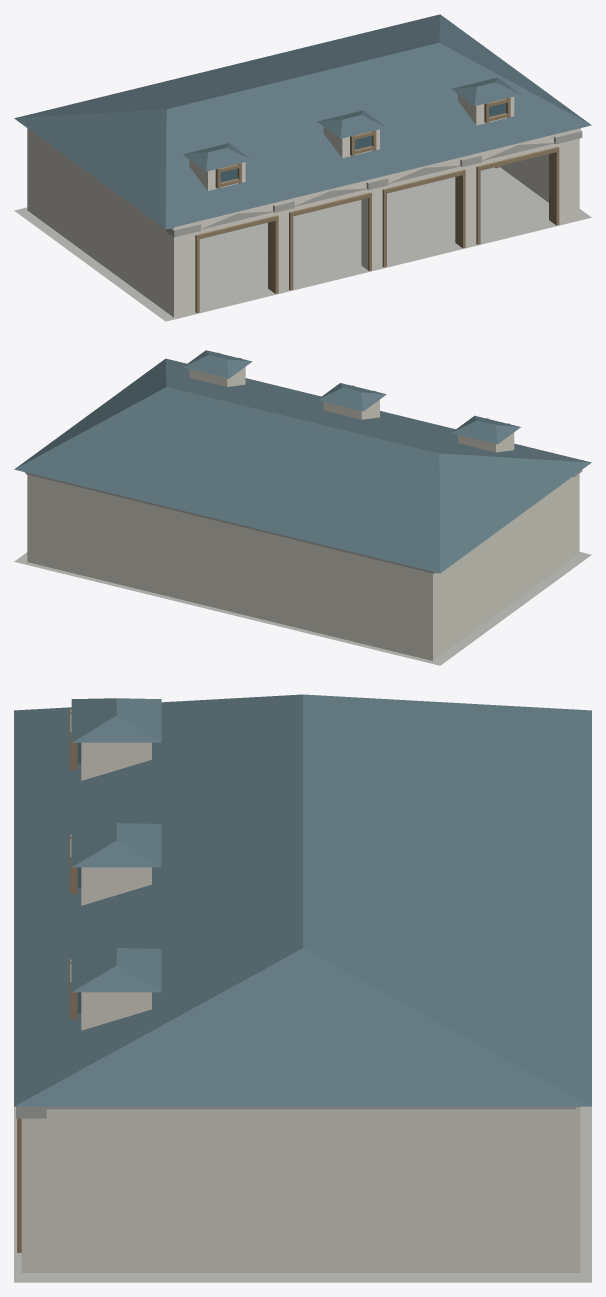
File: cart_garage_02.glb
3 views of the same model, one above another, from view 1: azimuth 30°, elevation 25°; view 2: azimuth 150°, elevation 25°; view 3: azimuth 270°, elevation 25° (orthographic). The views are drawn at different scales.
Parts seen in each view (by area): view 1: Cart_garage_02; view 2: Cart_garage_02; view 3: Cart_garage_02.
Part boxes in pixels (box(x1,y1,x2,y2)): Cart_garage_02: box(14, 14, 591, 321); Cart_garage_02: box(14, 350, 591, 665); Cart_garage_02: box(14, 694, 591, 1282).
Size of the model in its own units: 14.6 by 4.52 by 9.
